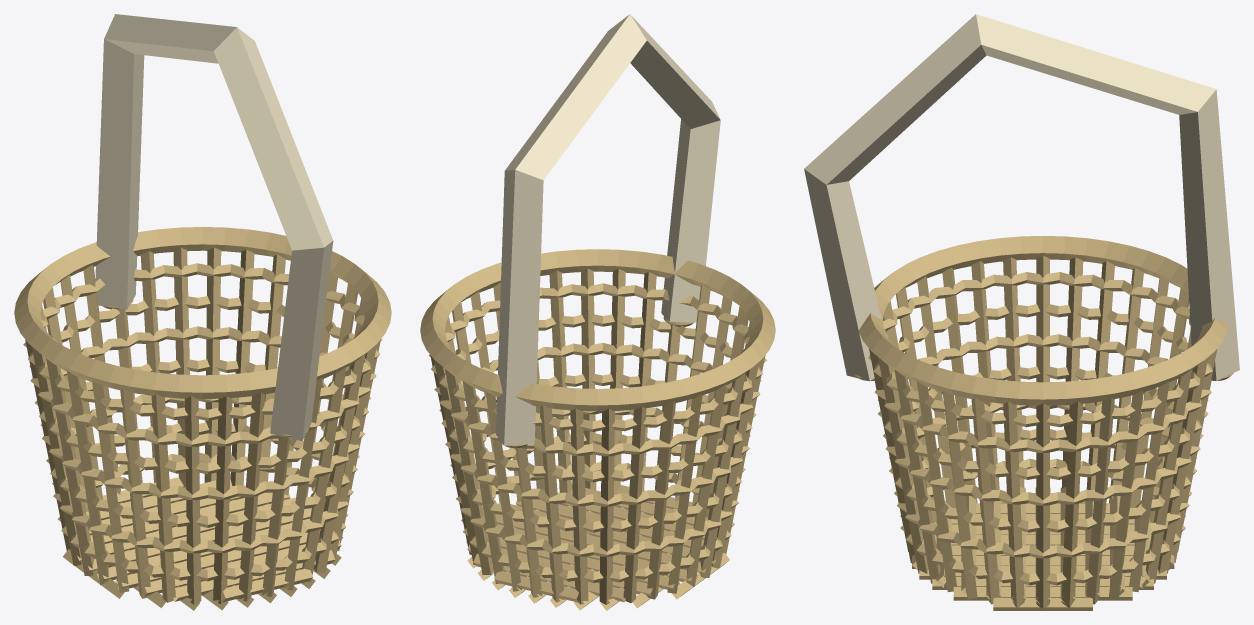
3 views of the same model, side by side, from view 1: azimuth 30°, elevation 25°; view 2: azimuth 150°, elevation 25°; view 3: azimuth 270°, elevation 25° (orthographic). The views are drawn at different scales.
Visible parts, largest first — view 1: BA-0030 batched; view 2: BA-0030 batched; view 3: BA-0030 batched.
Part boxes in pixels (x1,y1,x2,y2): BA-0030 batched: (14,14,391,610); BA-0030 batched: (420,14,775,610); BA-0030 batched: (804,14,1239,610).
Size of the model in its own units: 0.602 by 0.971 by 0.7043.
